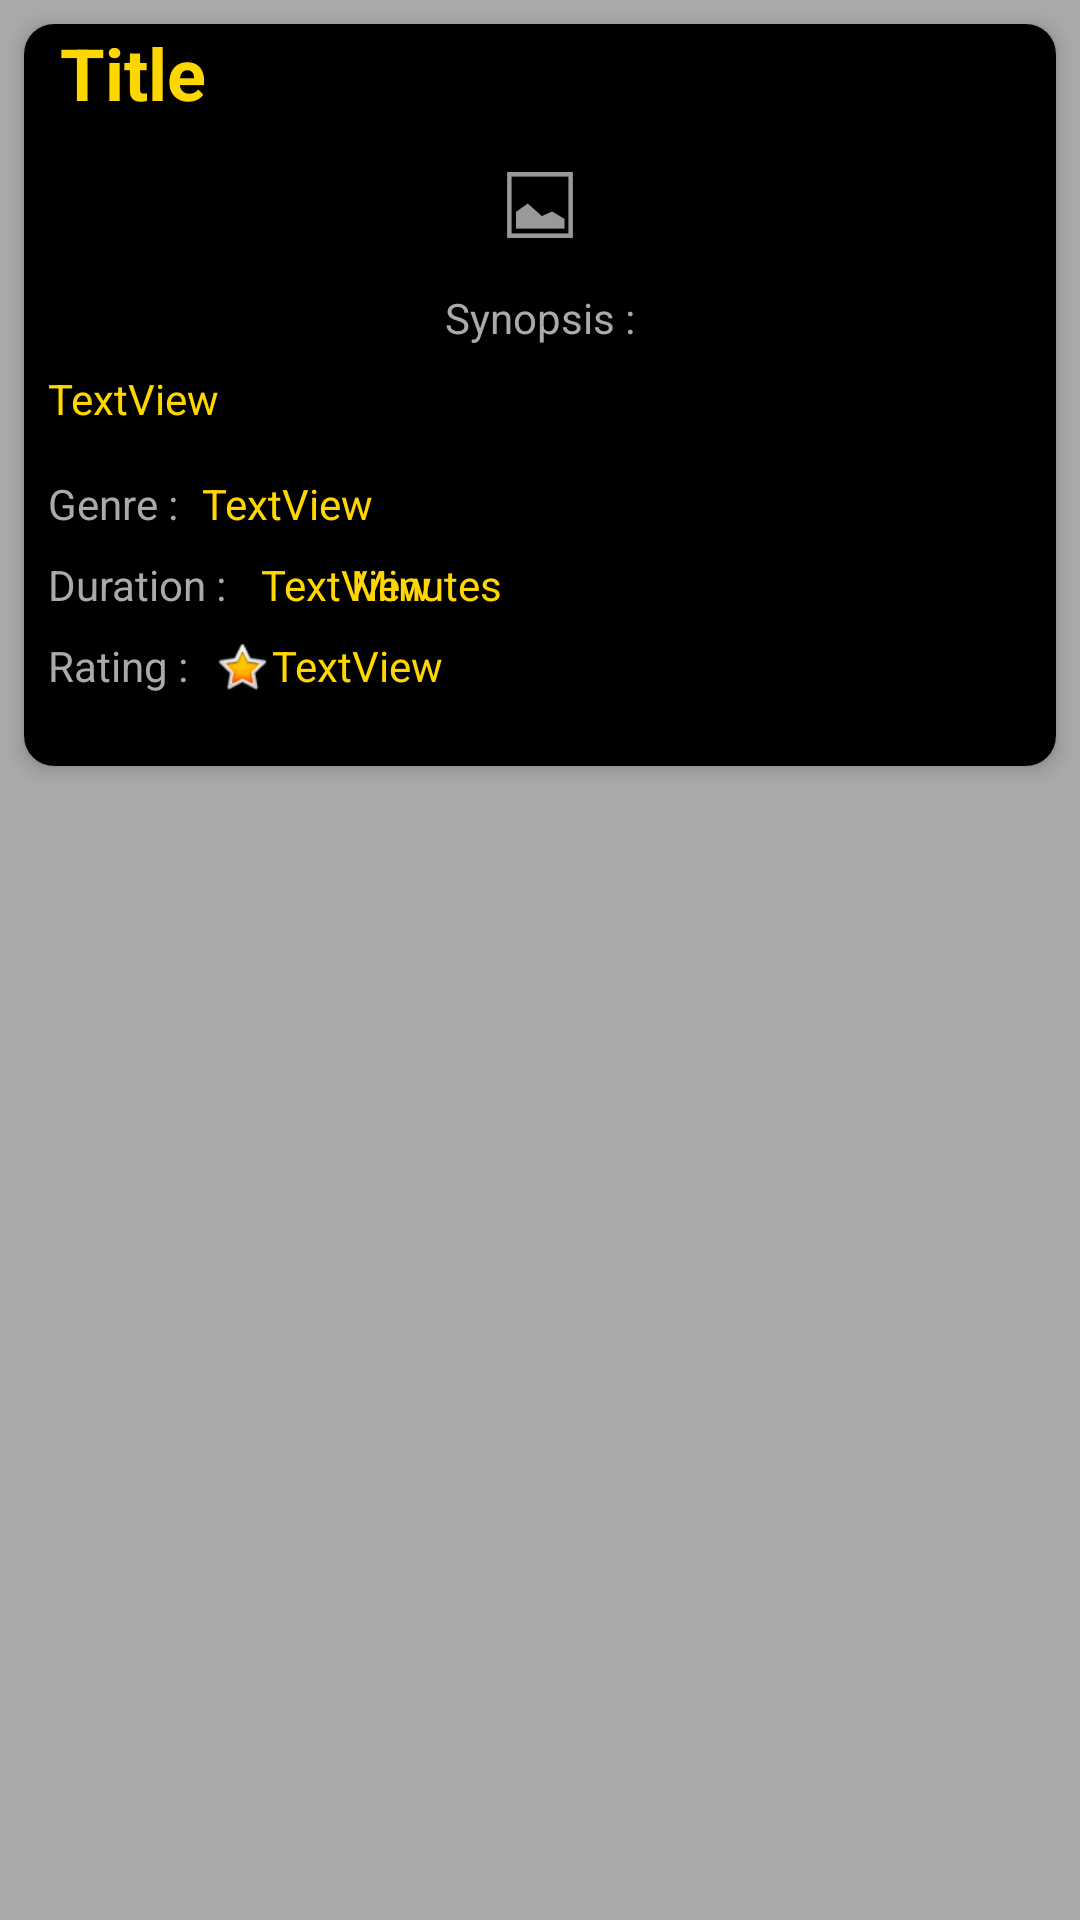

Icons on this 1080px x 1920px Android screen, each with the point to tap as (x,y):
gallery: (540,205)
star on: (242,667)
